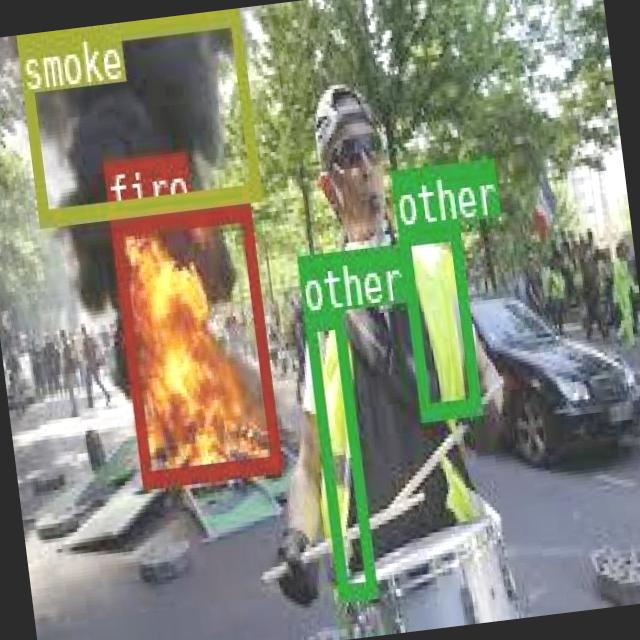fire: (108, 202, 281, 484)
smoke: (14, 8, 261, 224)
